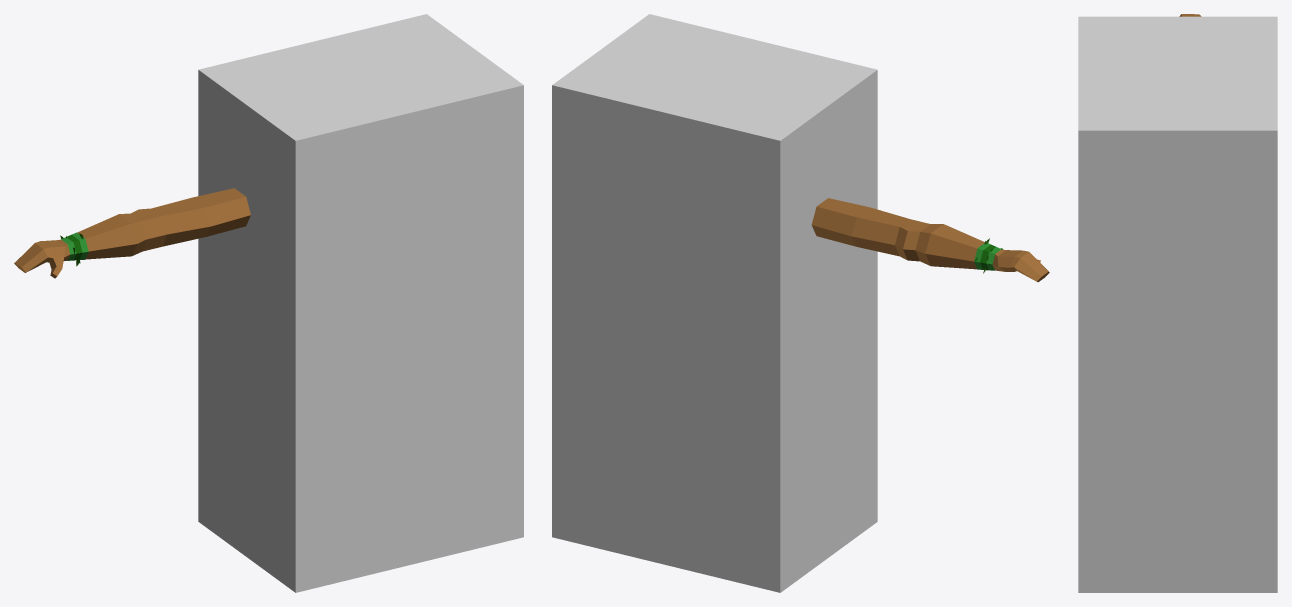
Rendered from Arm6Direita.fbx.
The picture shows the model from 3 angles, left to right: view 1: azimuth 30°, elevation 25°; view 2: azimuth 150°, elevation 25°; view 3: azimuth 270°, elevation 25°; orthographic projection. The views are drawn at different scales.
Parts seen in each view (by area): view 1: Cube, Plane.001; view 2: Cube, Plane.001; view 3: Cube.
Part boxes in pixels (x1,y1,x2,y2): Cube: (198,14,523,592); Plane.001: (14,188,250,278); Cube: (552,14,877,592); Plane.001: (811,198,1049,282); Cube: (1078,16,1277,592).
Size of the model in its own units: 986 by 945 by 368.
